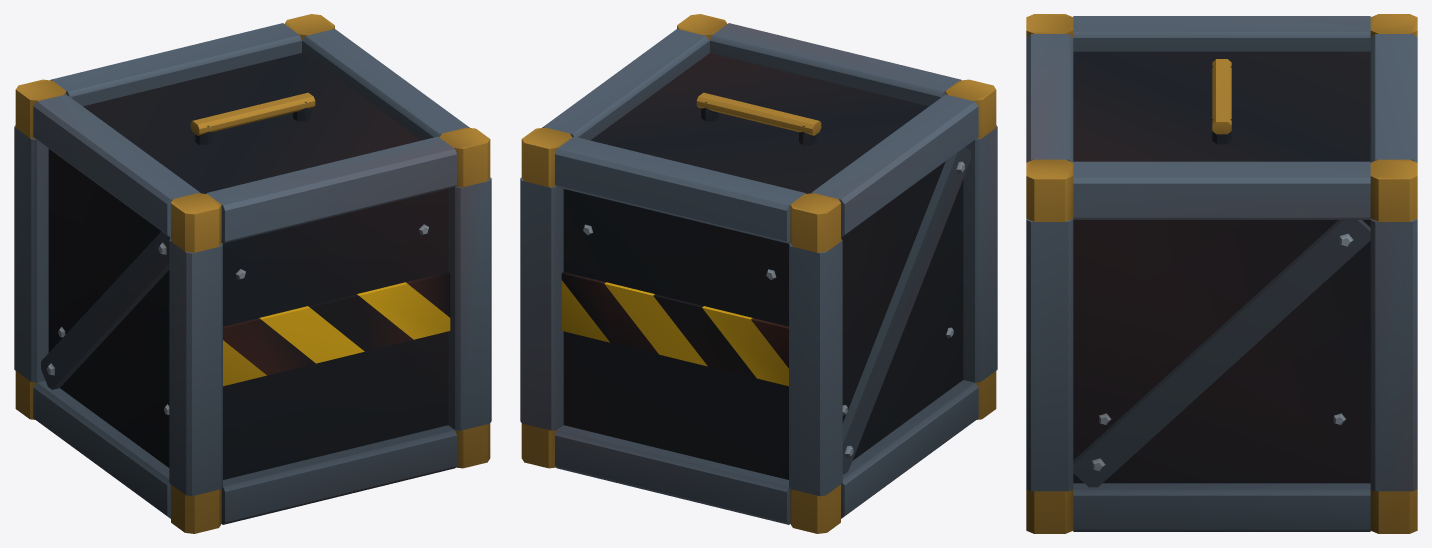
Rendered from crate_metal.glb.
The picture shows the model from 3 angles, left to right: view 1: azimuth 30°, elevation 25°; view 2: azimuth 150°, elevation 25°; view 3: azimuth 270°, elevation 25°; orthographic projection. The views are drawn at different scales.
Parts seen in each view (by area): view 1: crate_metal; view 2: crate_metal; view 3: crate_metal.
Boxes of the visible parts, box(x1,y1,x2,y2) form: crate_metal: box(14, 14, 491, 533); crate_metal: box(520, 14, 997, 533); crate_metal: box(1026, 14, 1417, 533).
Size of the model in its own units: 1 by 1.02 by 1.
